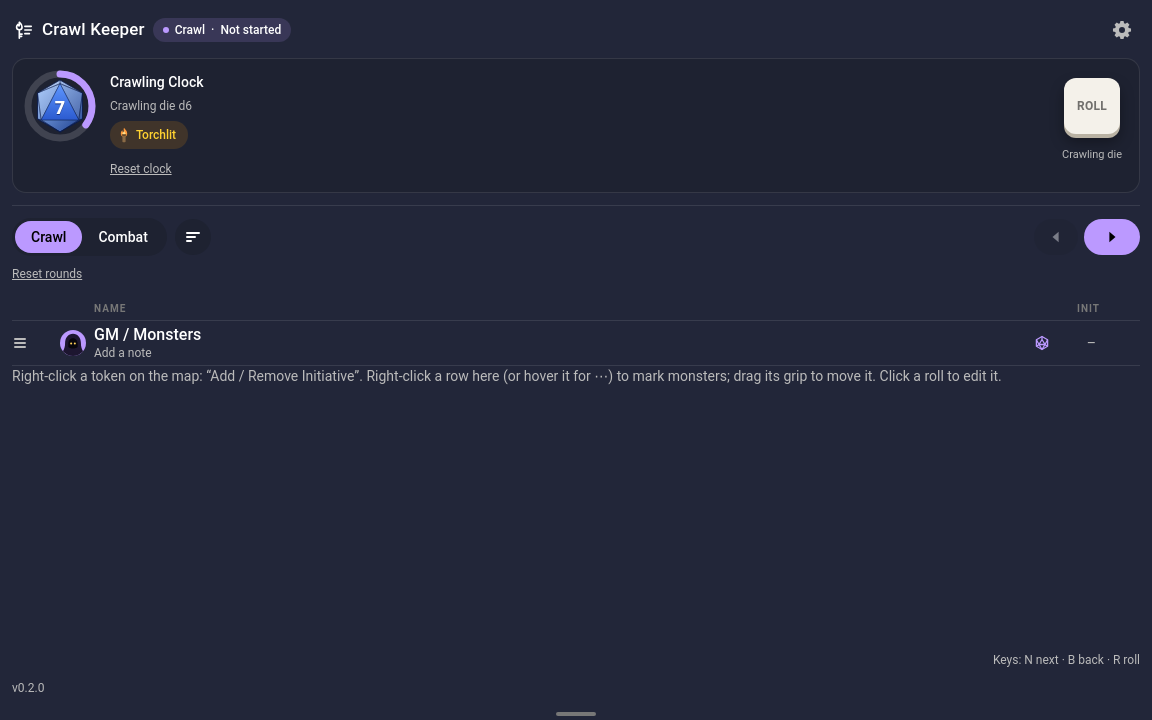
Test: Tracker (GM) › the crawl card › clock: Reset clock asks first; right-clicking the clock asks too
Click the button "Reset clock".
click(141, 168)  # box [110,154,172,182]
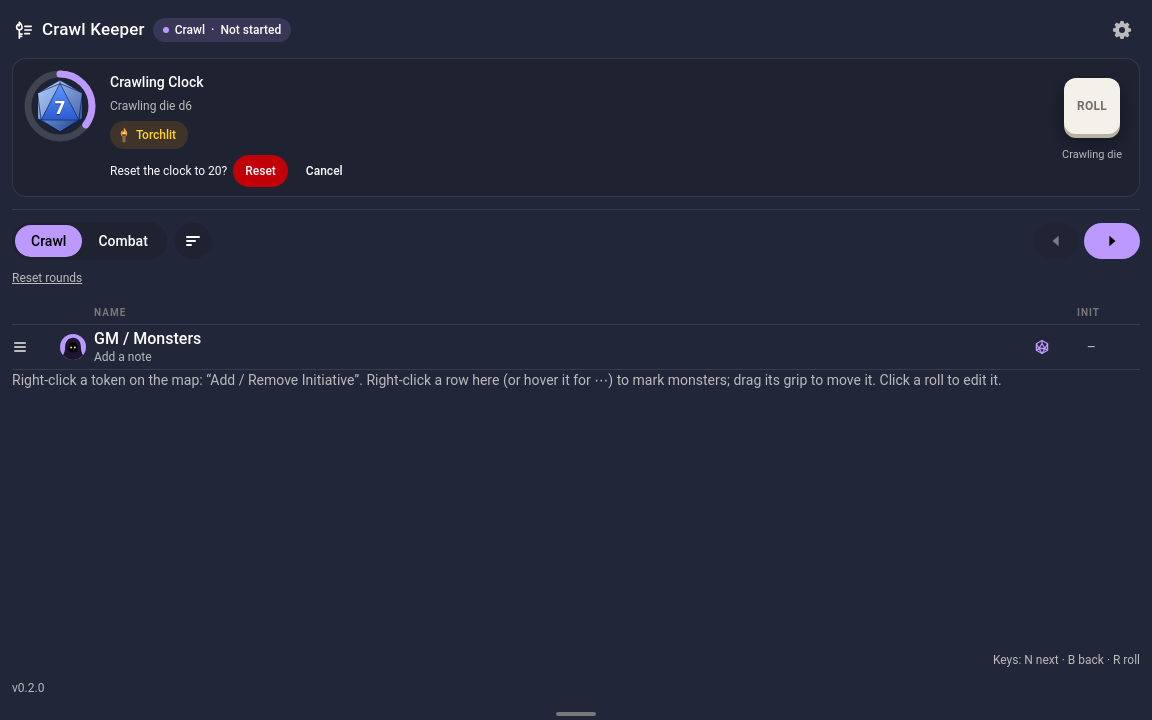
Click the button "Cancel".
click(324, 170)  # box [294,154,355,186]
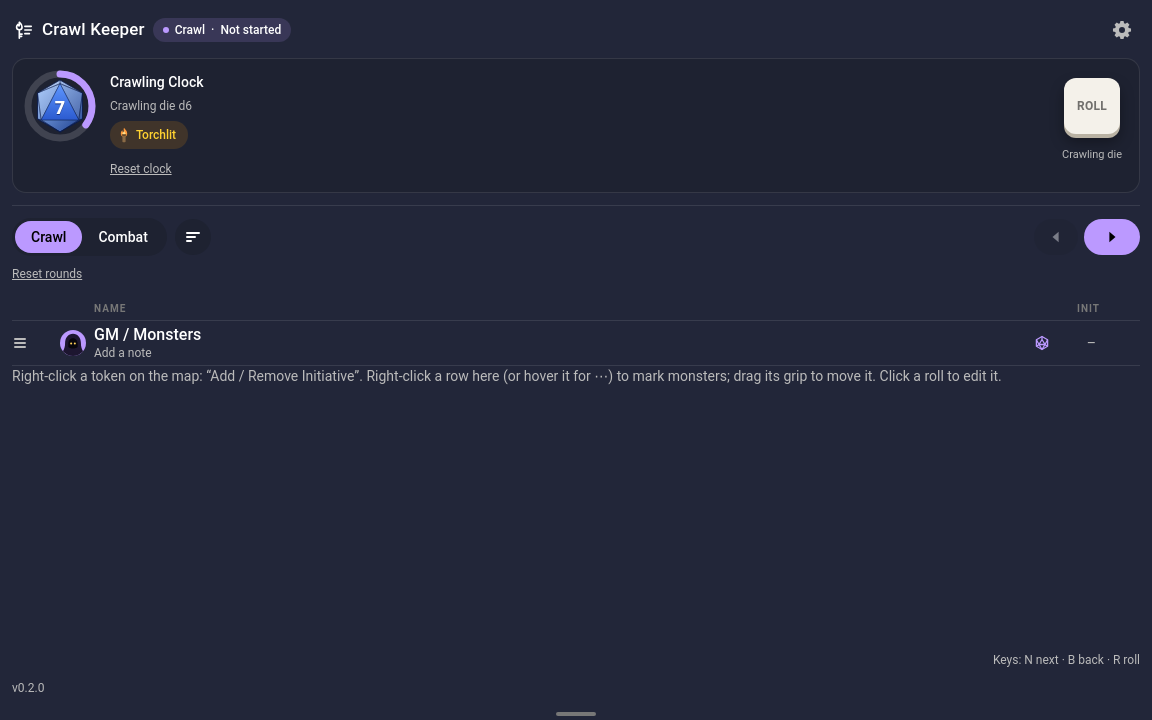
Right-click the element titled "Right-click to reset the clock".
right_click(60, 106)  # box [22,68,98,144]
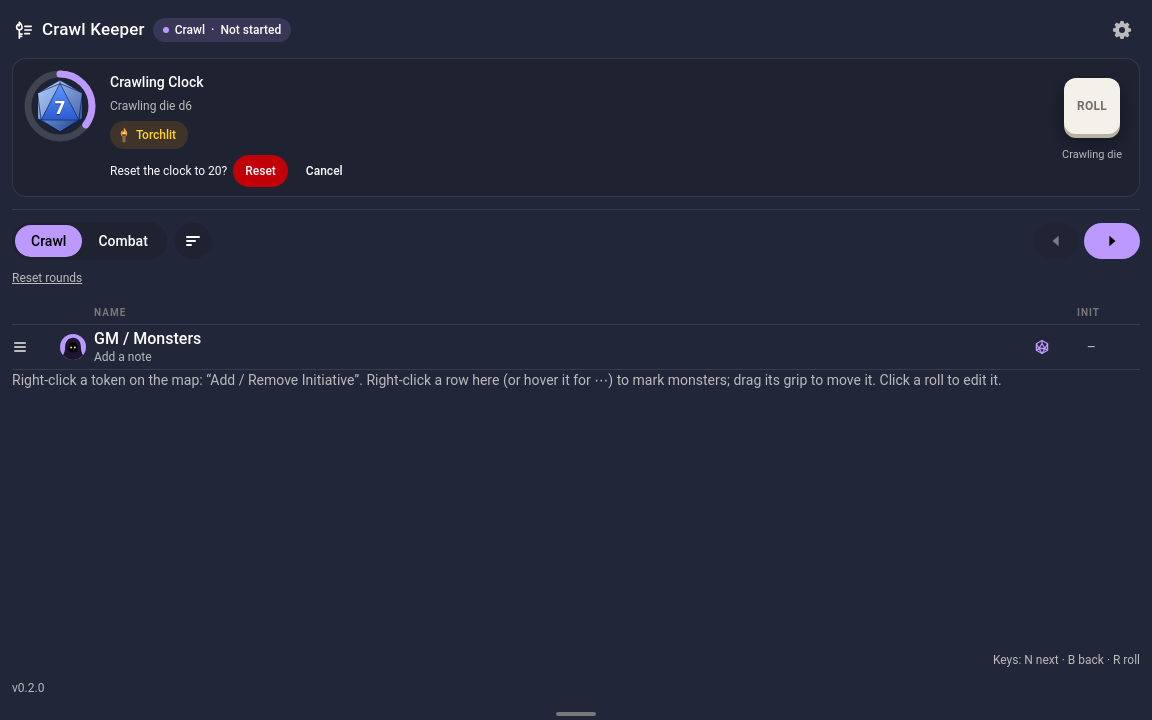
Click the button "Reset".
click(261, 170)  # box [233,154,288,186]
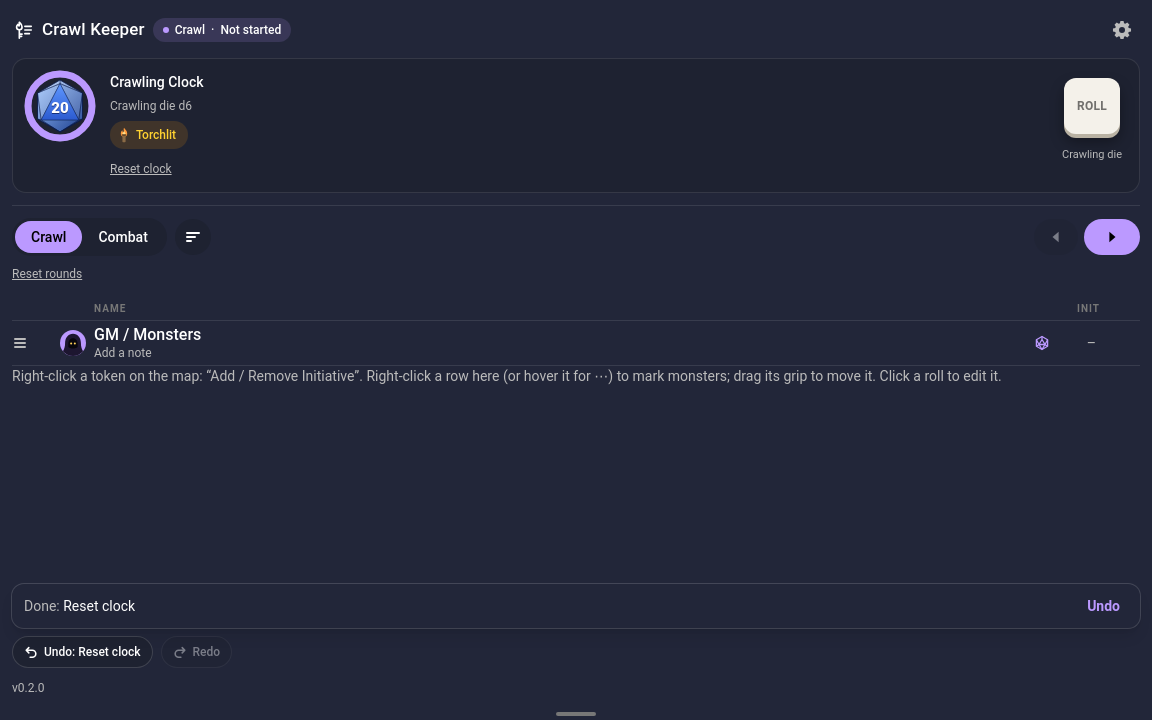
Expected: the picture named "Clock 20 of 20" is shown, [22,68,98,144]
